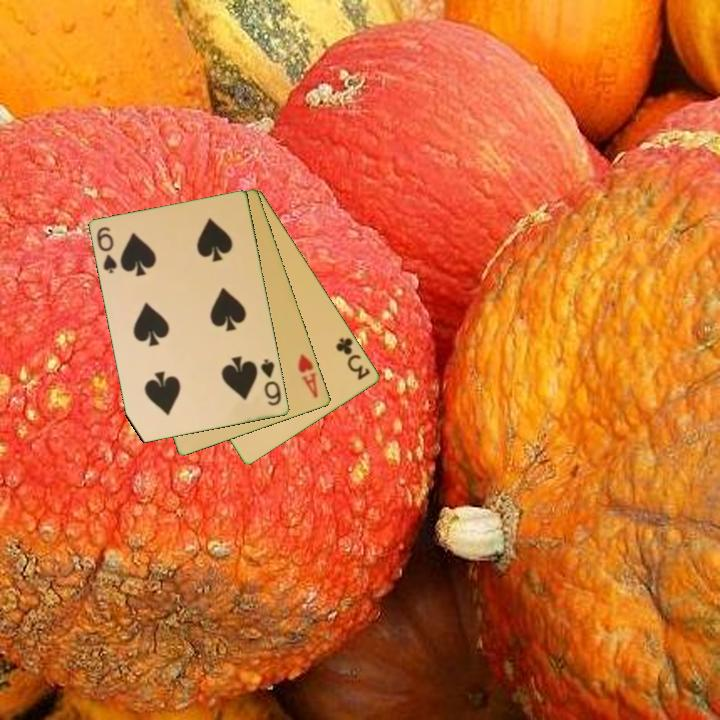3c: (333, 334, 373, 383)
6s: (257, 355, 284, 409), (93, 223, 120, 277)
Ah: (295, 350, 321, 401)
